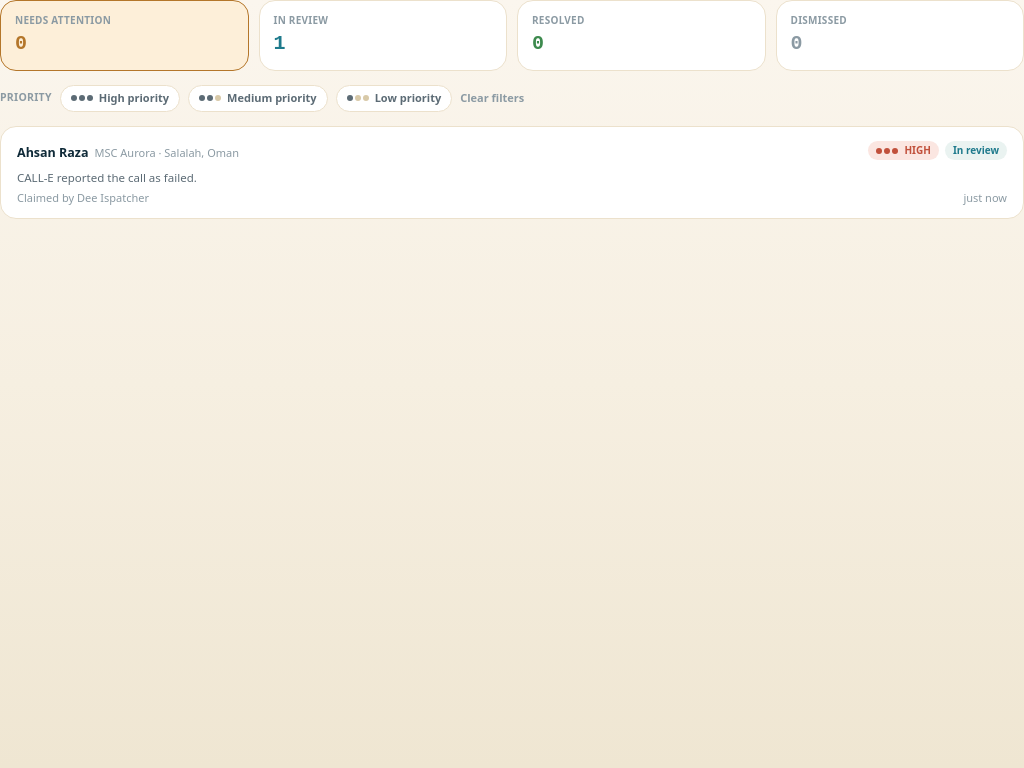
YellowZonePage — resolve › keeps Confirm resolve disabled until notes are entered
Click the text "Ahsan Raza" at (53, 152), box x1=17 y1=144 x2=88 y2=160
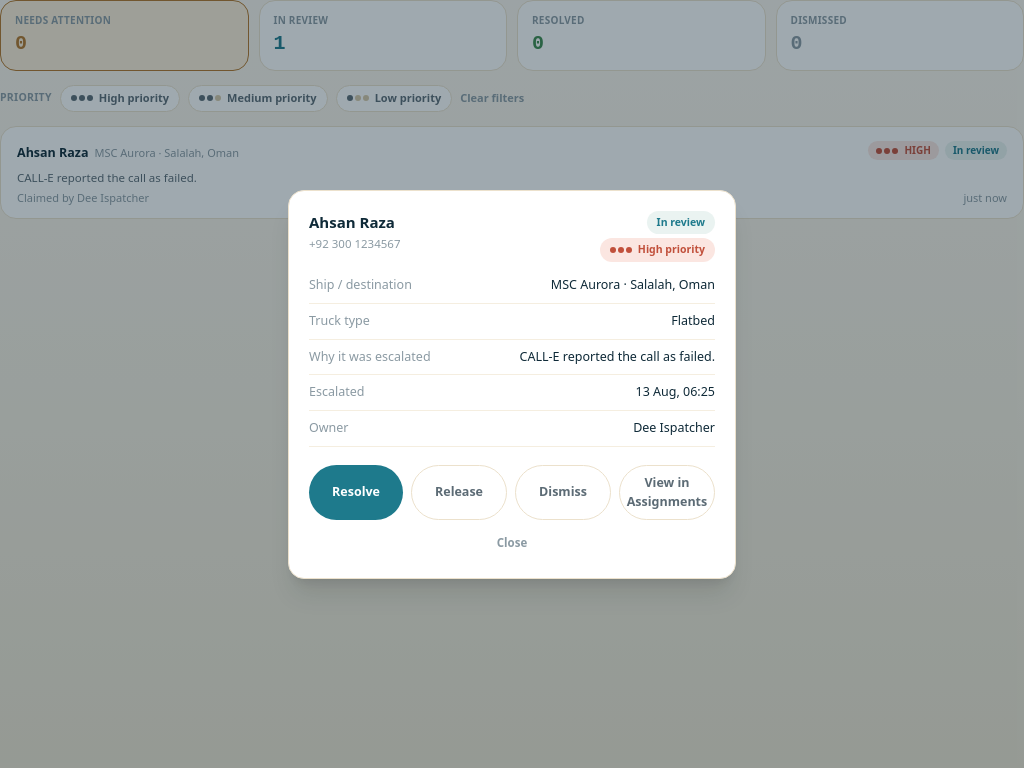
Click the button "Resolve" at (356, 493), box x1=309 y1=465 x2=403 y2=520
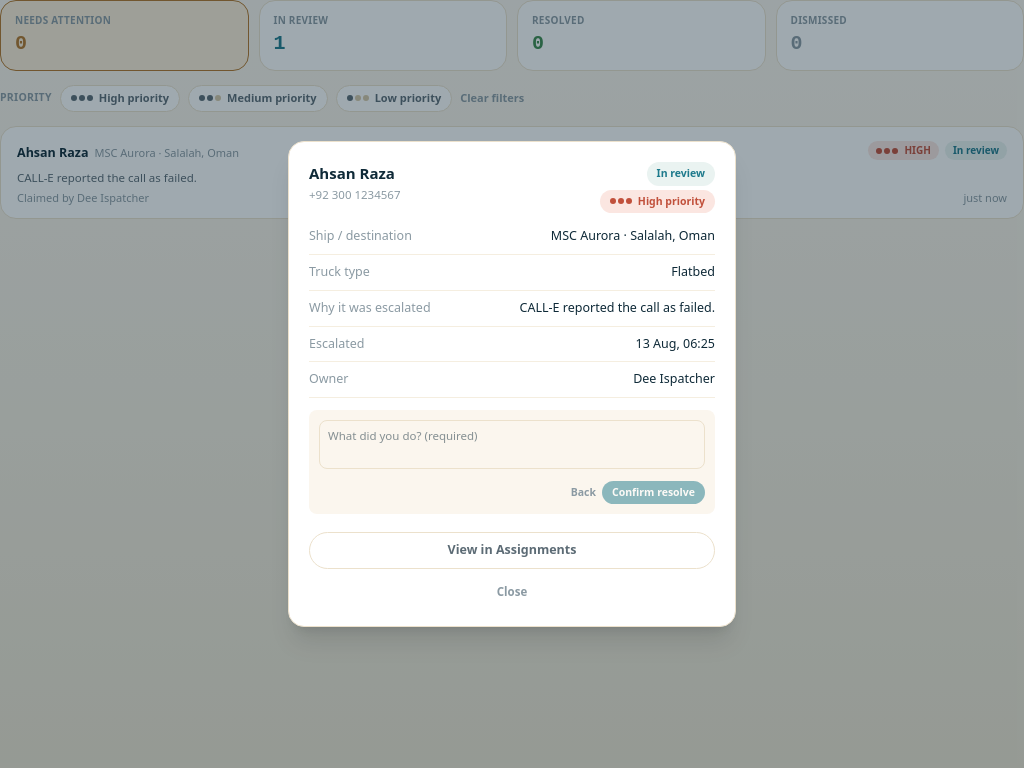
expect the button "Confirm resolve" is disabled: met, box x1=602 y1=480 x2=705 y2=504
Type "Called the driver directly." into the text box with placeholder "What did you do? (required)" at (512, 444), box x1=319 y1=420 x2=705 y2=468
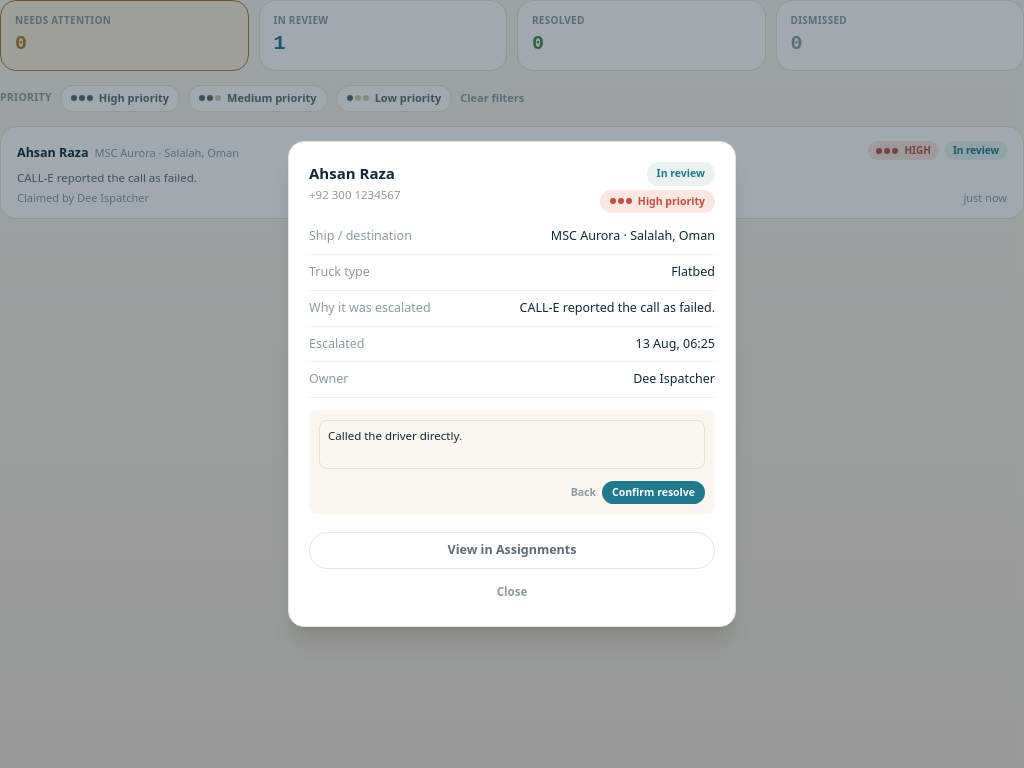
expect the button "Confirm resolve" is enabled: met, box x1=602 y1=480 x2=705 y2=504
